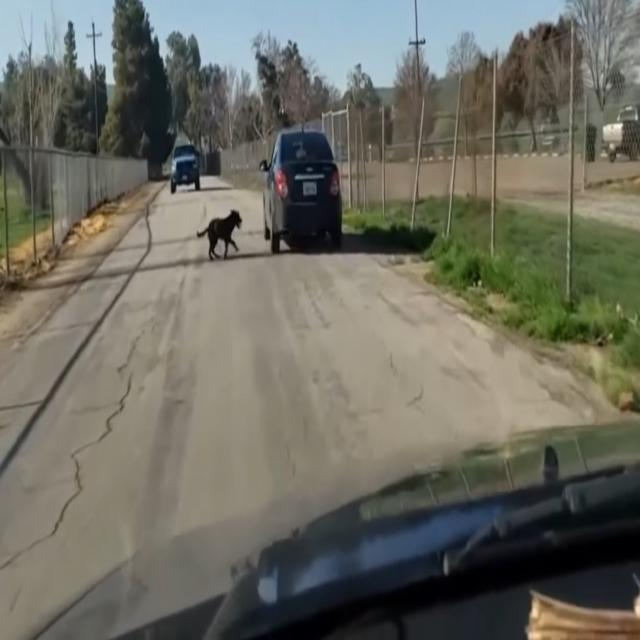dog: (186, 196, 249, 265)
